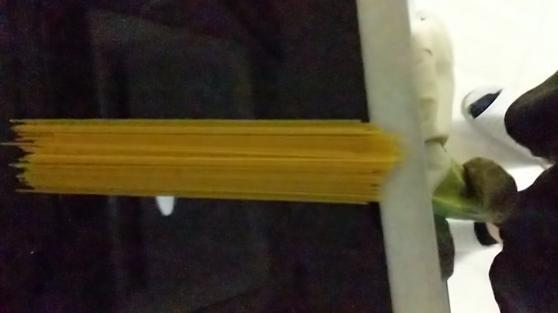spaghetti: (4, 107, 425, 228)
